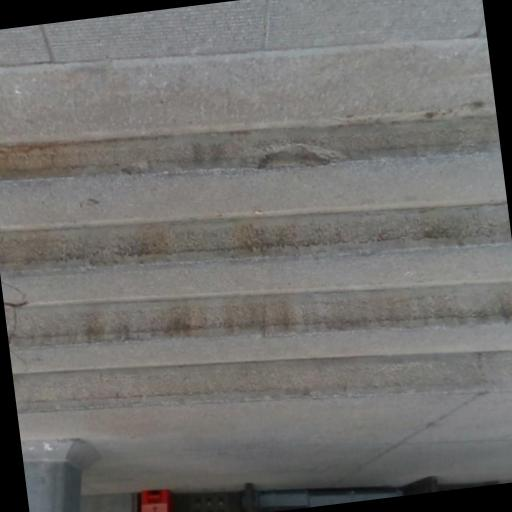stairs: (0, 116, 511, 403)
